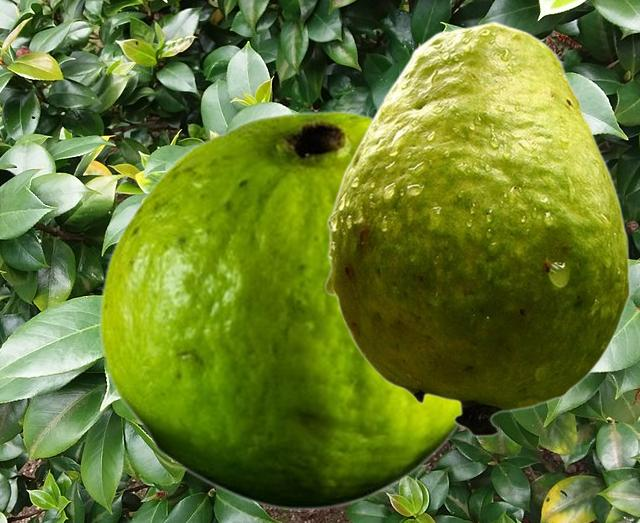guava: (98, 110, 461, 510), (324, 21, 630, 437)
